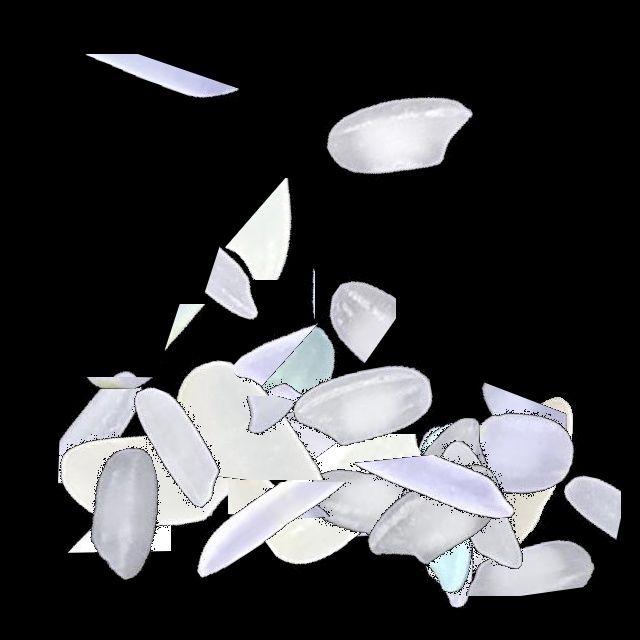Broken: (145, 369, 395, 534), (258, 423, 508, 584), (15, 347, 265, 507), (396, 390, 555, 640), (135, 322, 385, 480), (249, 434, 499, 591), (173, 482, 423, 628), (299, 455, 549, 595), (390, 459, 640, 596), (105, 431, 355, 564), (268, 173, 396, 423), (2, 54, 252, 178), (443, 331, 567, 581), (144, 226, 394, 344), (504, 386, 621, 636), (55, 369, 171, 619), (175, 410, 425, 518), (92, 304, 342, 410), (97, 415, 347, 518), (182, 178, 432, 280), (214, 156, 315, 406), (148, 396, 398, 496), (234, 164, 332, 414), (399, 390, 492, 640), (7, 377, 257, 470), (321, 492, 571, 585), (228, 348, 314, 598), (174, 153, 424, 231), (310, 456, 560, 533), (293, 284, 368, 534)
Full: (359, 384, 609, 634), (144, 291, 394, 541), (322, 389, 572, 639), (320, 381, 570, 631), (26, 365, 276, 615), (184, 319, 434, 569), (150, 299, 400, 549), (206, 331, 456, 581), (390, 353, 640, 603), (276, 12, 526, 262), (34, 349, 284, 599), (390, 328, 640, 578), (288, 390, 538, 640), (250, 378, 500, 628), (49, 322, 299, 572), (319, 357, 569, 607), (0, 390, 250, 640), (358, 378, 608, 628), (237, 280, 487, 530), (310, 390, 560, 640)
